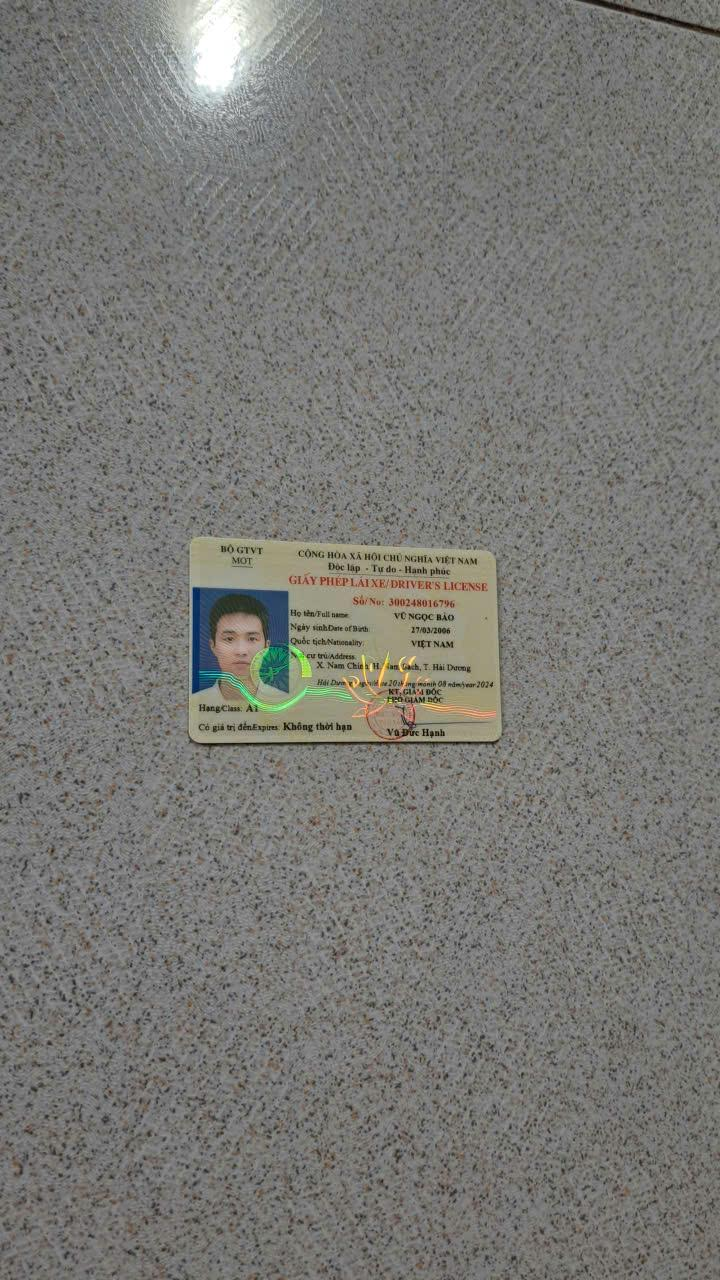gplx: (184, 533, 509, 756)
